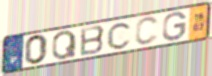0: (23, 34, 52, 67)
B: (79, 24, 106, 58)
C: (133, 15, 160, 47), (106, 21, 134, 51)
G: (161, 11, 188, 42)
Q: (51, 29, 78, 61)
